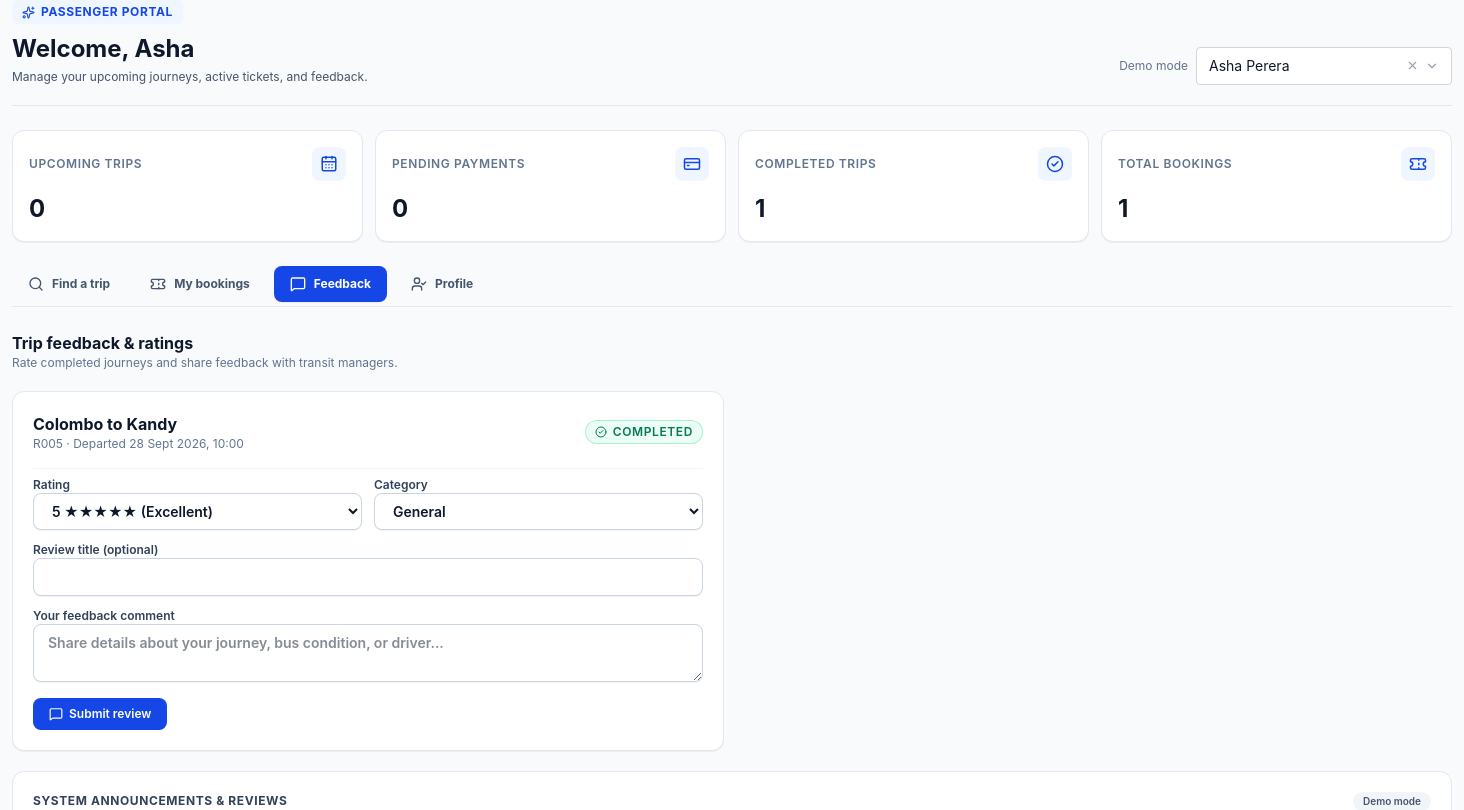
Test: Passenger review submission › sends the selected passenger and trip context and confirms only a successful save
Type "Clean bus" into the field labelled "Review title (optional)". click: coordinates (368, 576)
box: [33,558,703,596]
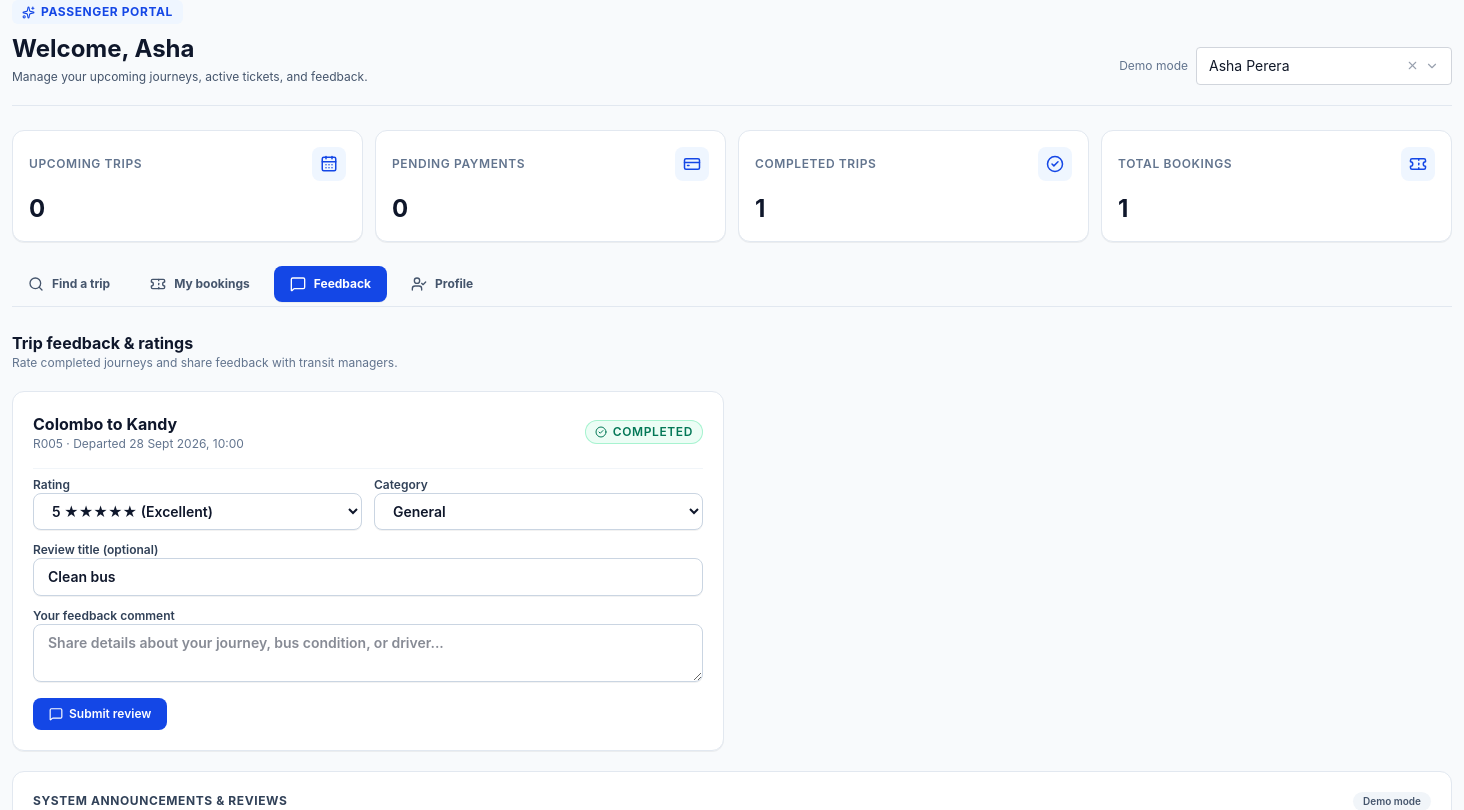
Replace the text in the text box with placeholder "Share details about your journey, bus condition, or driver..." with "Comfortable journey.". click: coordinates (368, 652)
box: [33,624,703,682]
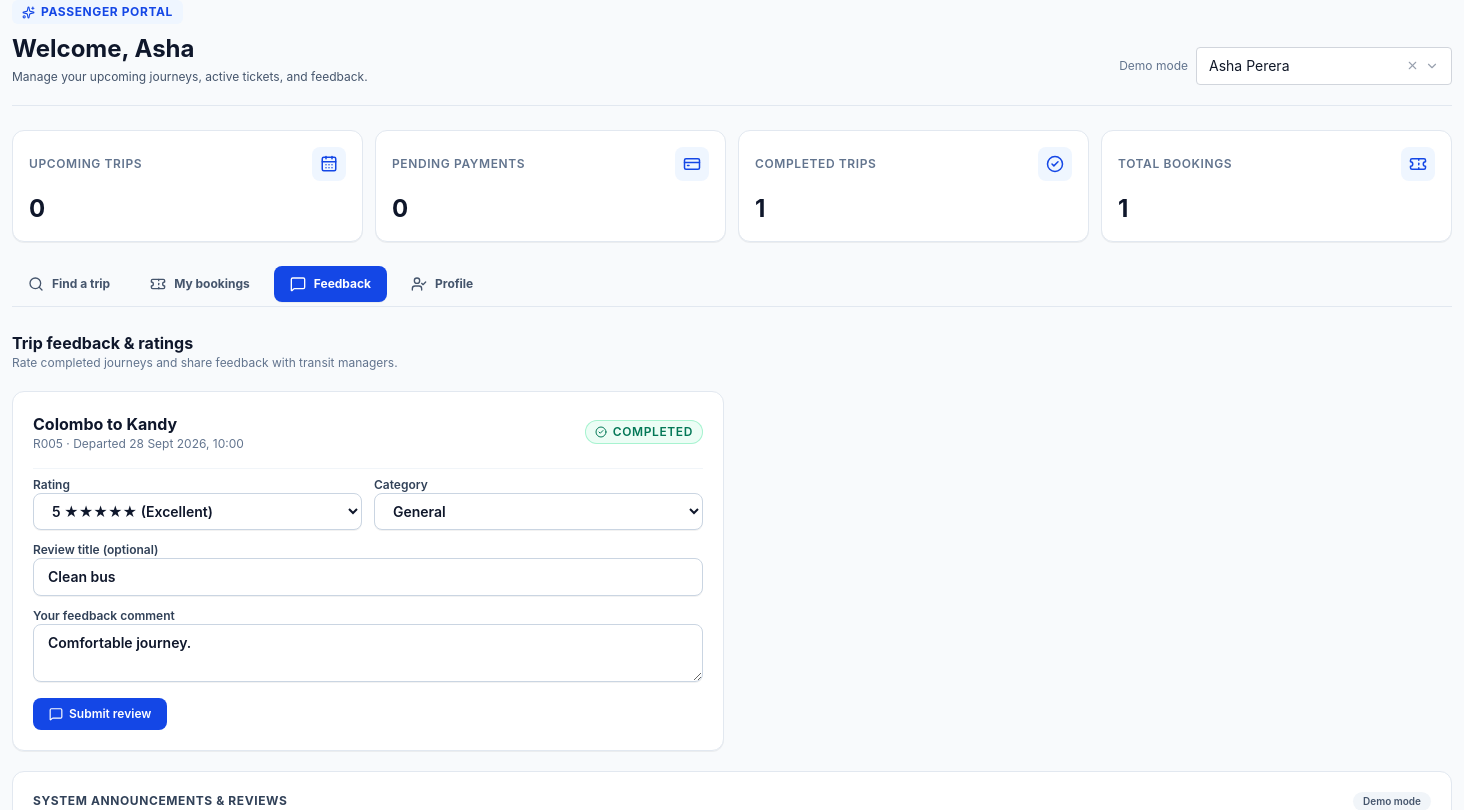
Click the button "Submit review". click: coordinates (100, 714)
box: [33,698,167,730]
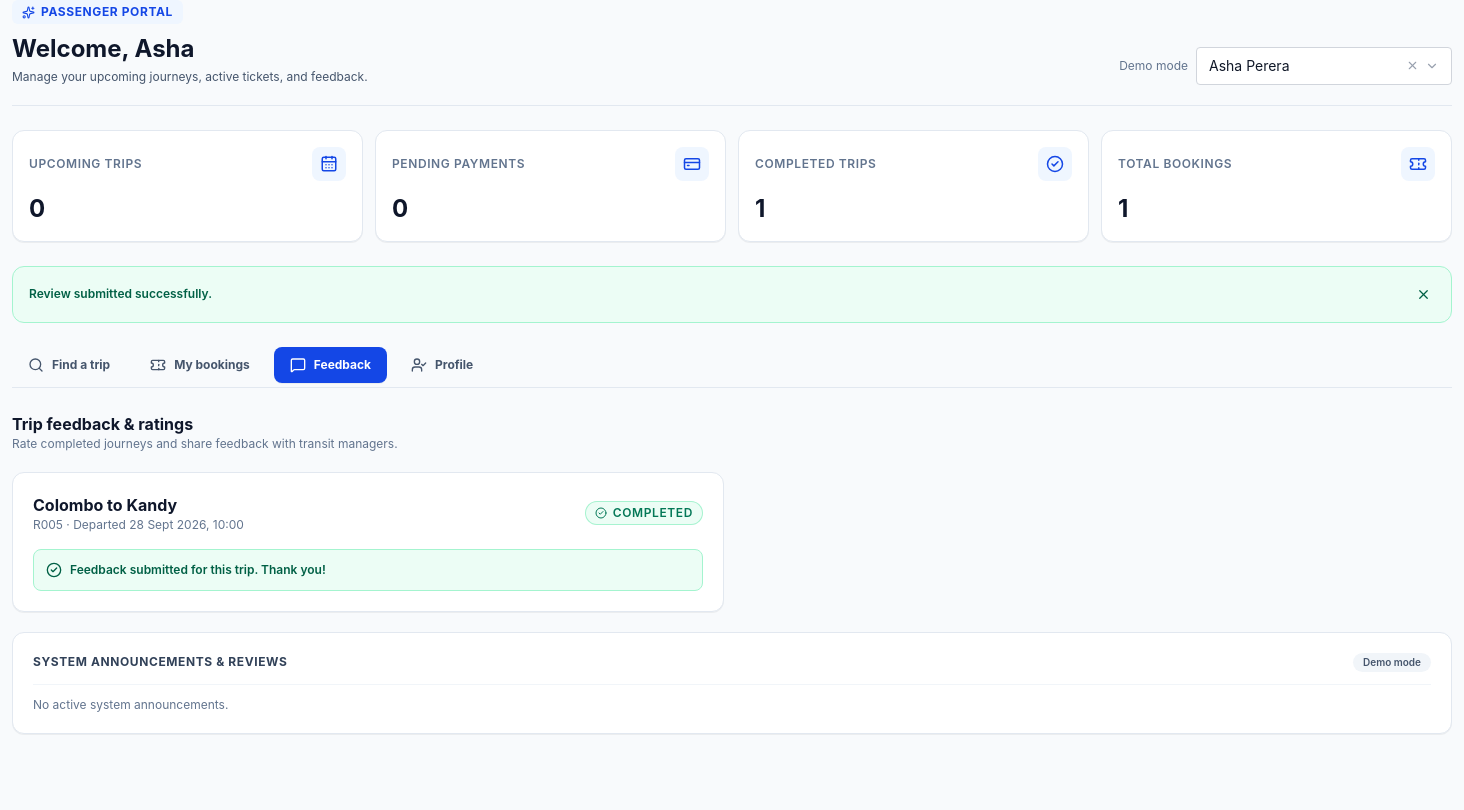
Expected: the text "Review submitted successfully." is shown, [29,286,212,302]
